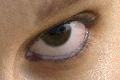eye: (43, 23, 71, 46)
